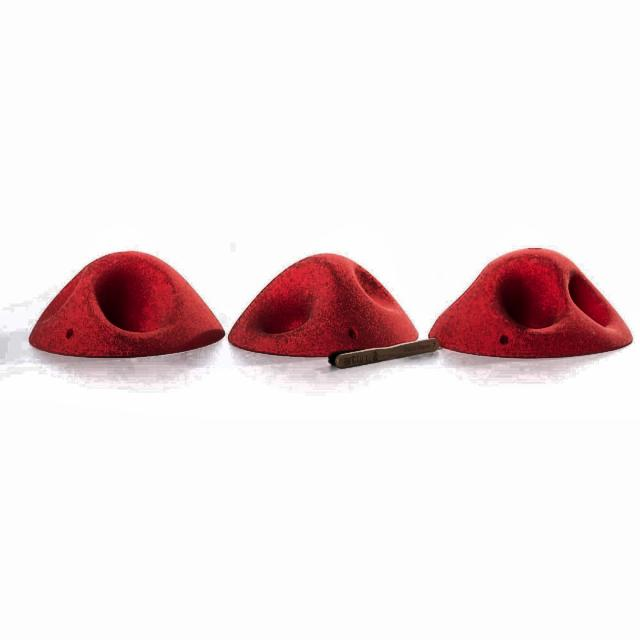Hold: (431, 245, 635, 356), (26, 251, 226, 357), (234, 252, 414, 359)
